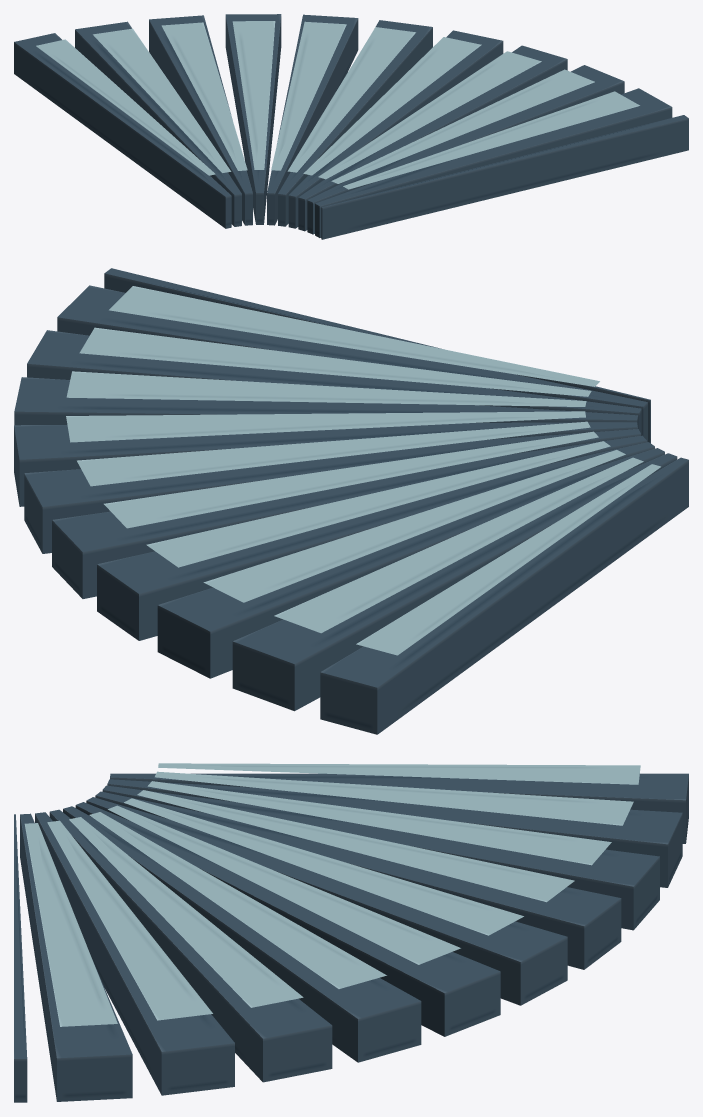
Rendered from sc_tread_curve_left_21.obj.
The picture shows the model from 3 angles, top to bottom: view 1: azimuth 30°, elevation 25°; view 2: azimuth 150°, elevation 25°; view 3: azimuth 270°, elevation 25°; orthographic projection. The views are drawn at different scales.
Bounding box in the file's own units: 17.5 × 1.56 × 17.5.
1 material, 1 textured.
